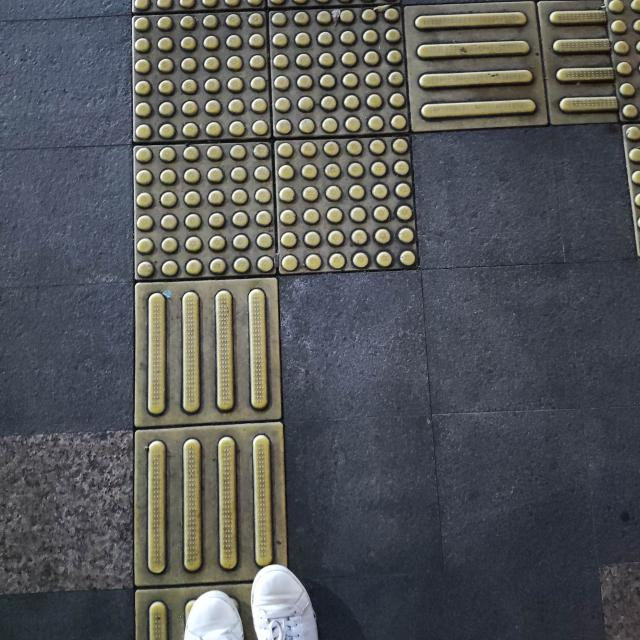kanan: (94, 0, 640, 357)
